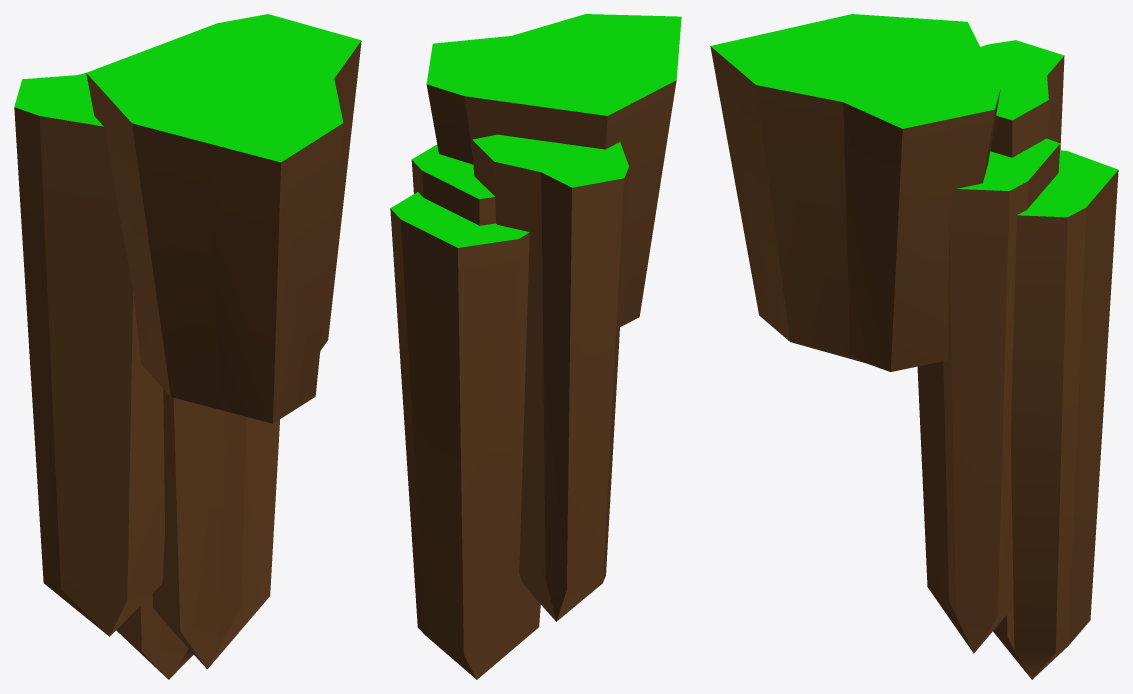
Rendered from Island01.fbx.
The picture shows the model from 3 angles, left to right: view 1: azimuth 30°, elevation 25°; view 2: azimuth 150°, elevation 25°; view 3: azimuth 270°, elevation 25°; orthographic projection. The views are drawn at different scales.
Parts seen in each view (by area): view 1: New_Game_Object__9_1; view 2: New_Game_Object__9_1; view 3: New_Game_Object__9_1.
Part boxes in pixels (bbox=[...]): New_Game_Object__9_1: bbox=[14, 14, 361, 679]; New_Game_Object__9_1: bbox=[390, 14, 681, 679]; New_Game_Object__9_1: bbox=[710, 14, 1118, 679].
Bounding box in the file's own units: 1878 × 2539 × 4156.
